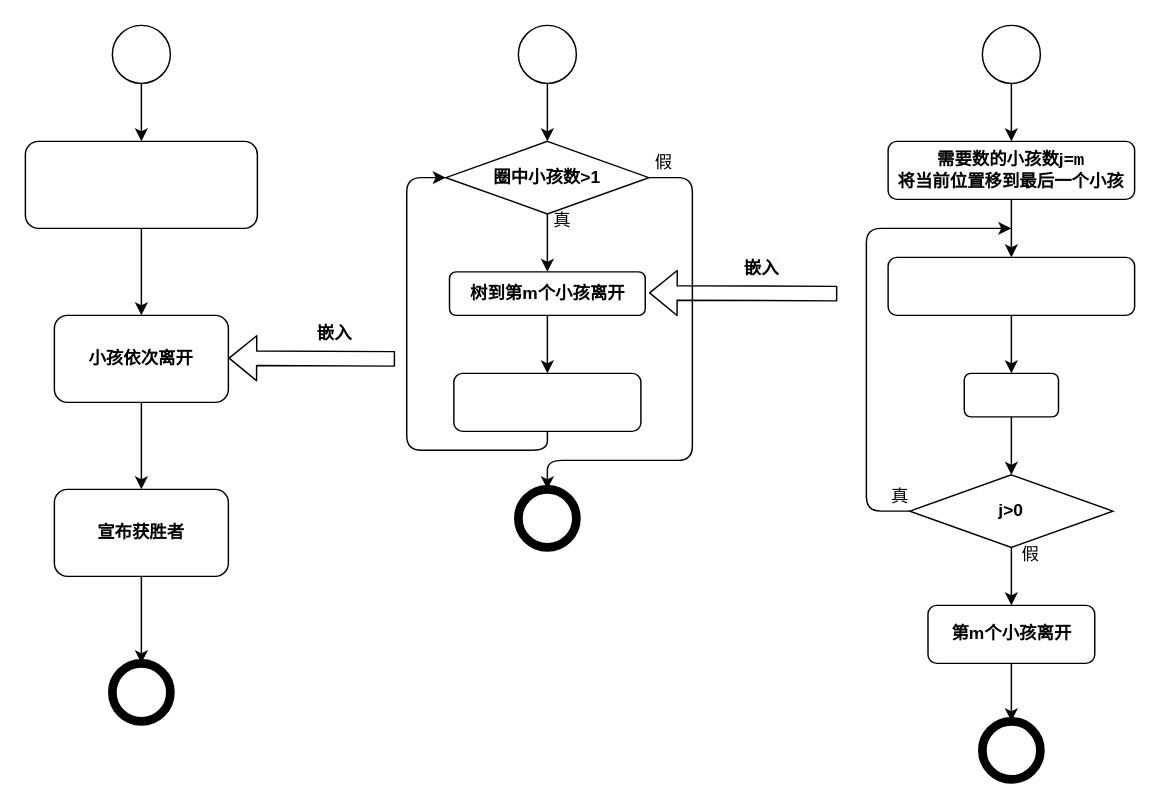
The diagram is 1160 pixels wide and 809 high, and some of its shapes have lost their labels. The box of each missing label's shape, as (x1, y1, x2, y2) in pixels:
j--: (963, 372, 1058, 417)
初始化小孩总数 numOfBoy 数小孩间隔m 将小孩围成圈（数组/链表）: (24, 140, 257, 228)
圈中小孩数 numOfBoy -1: (452, 372, 641, 431)
将当前位置移到下一个小孩: (887, 256, 1135, 315)
